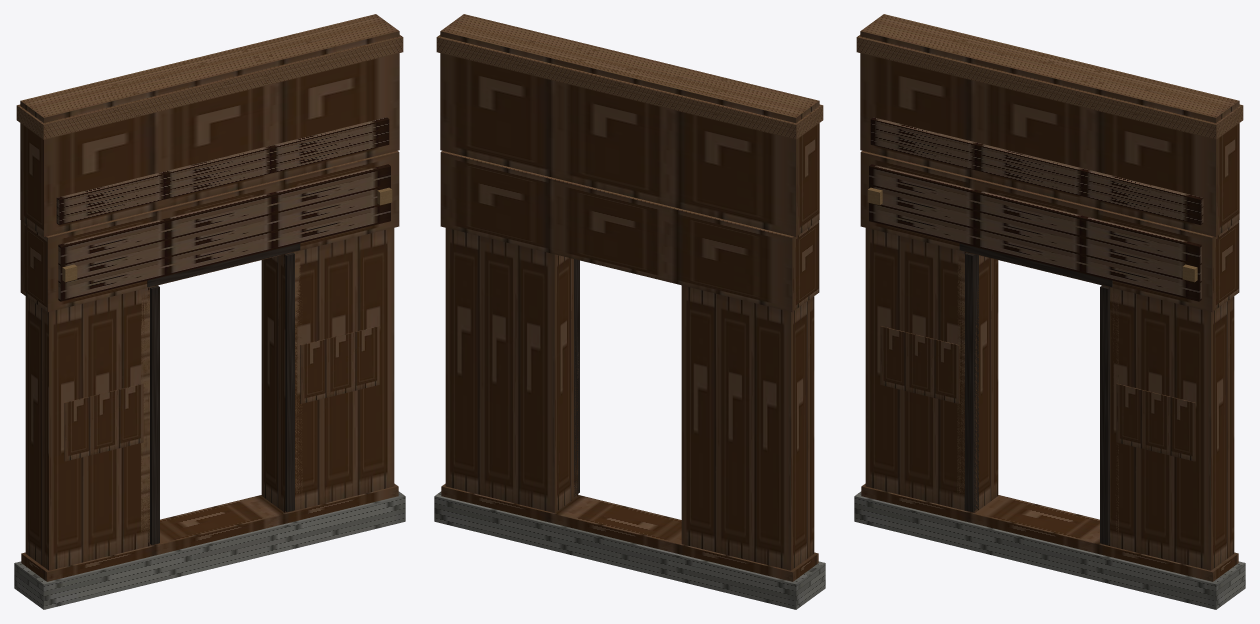
File: ae_duel_wood_door_frame_lod1.glb
3 views of the same model, side by side, from view 1: azimuth 30°, elevation 25°; view 2: azimuth 150°, elevation 25°; view 3: azimuth 330°, elevation 25° (orthographic).
Visible parts, largest first — view 1: ae_duel_wood_door_frame_lod1; view 2: ae_duel_wood_door_frame_lod1; view 3: ae_duel_wood_door_frame_lod1.
Part boxes in pixels (bbox=[...]): ae_duel_wood_door_frame_lod1: bbox=[14, 14, 405, 609]; ae_duel_wood_door_frame_lod1: bbox=[434, 14, 825, 609]; ae_duel_wood_door_frame_lod1: bbox=[854, 14, 1245, 609].
Size of the model in its own units: 3.56 by 4.6 by 0.57.
Materials: 1 (1 with a texture image).
